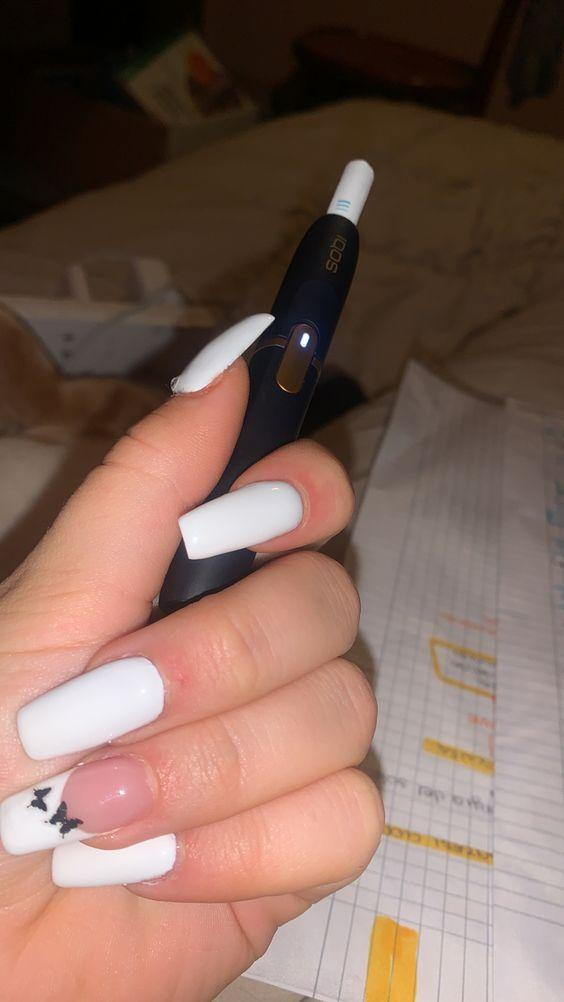iqos: (162, 160, 381, 612)
